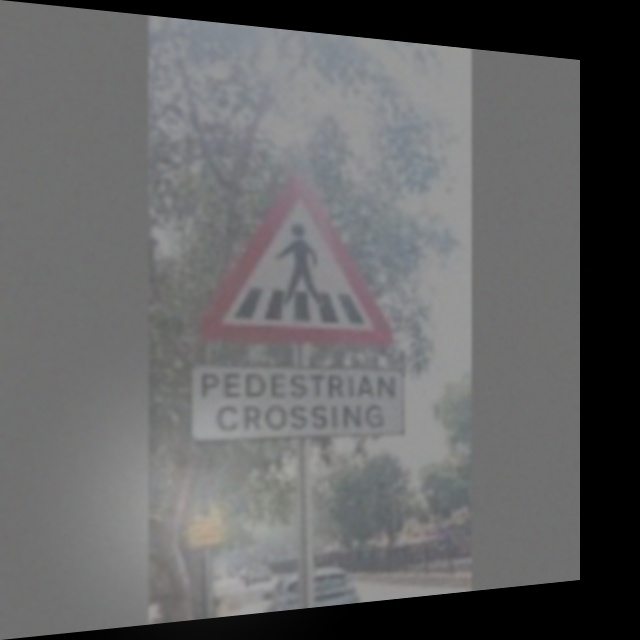Pedestrian_Crossing: (205, 164, 401, 343)
